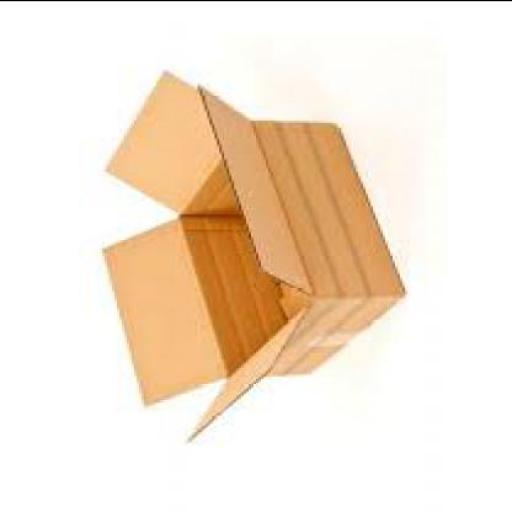cardboard: (98, 72, 402, 444)
